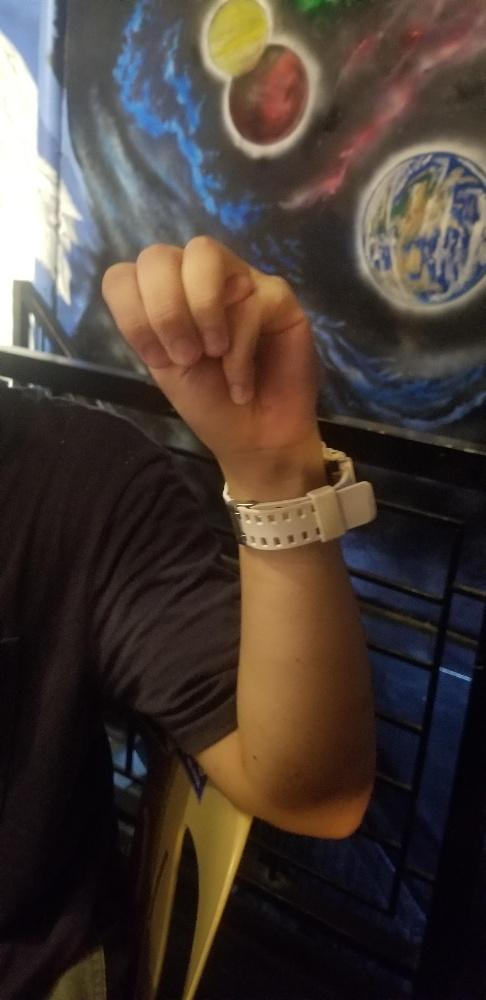n: (99, 234, 317, 426)
